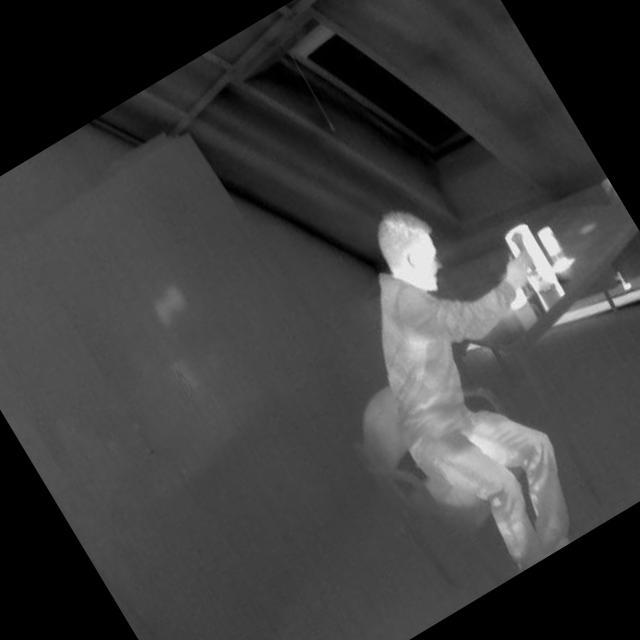person: (288, 157, 640, 592)
